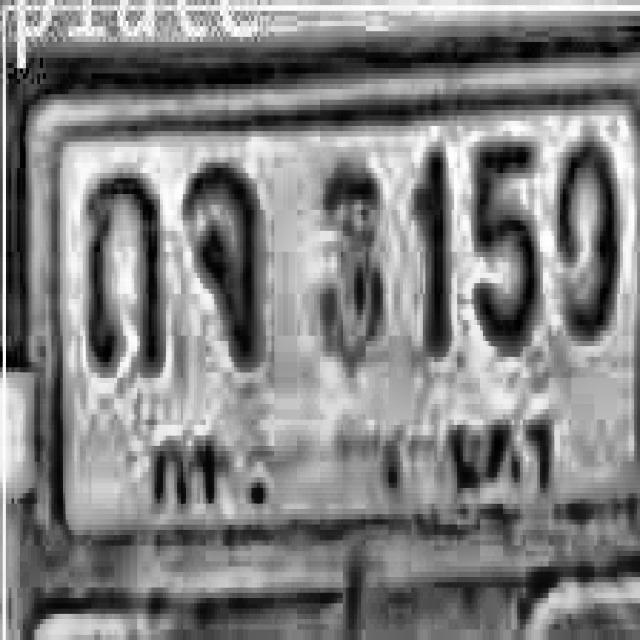license-plate: (23, 79, 640, 582)
